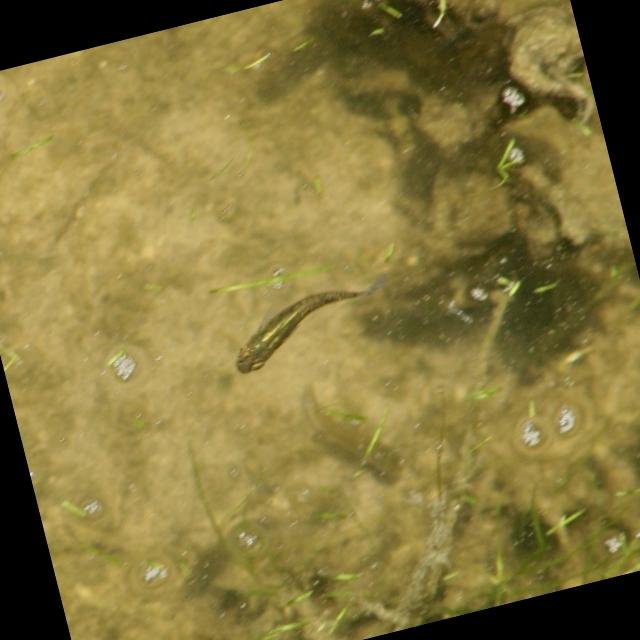Sivrisinek Baligi: (220, 279, 372, 379)
